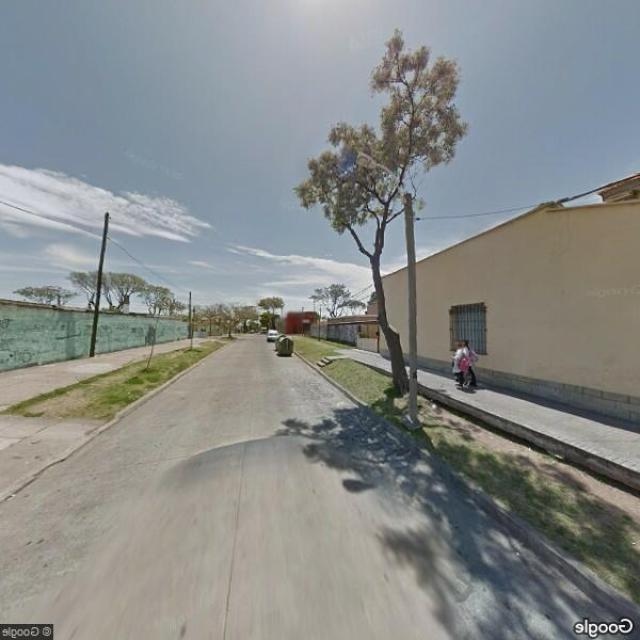garbage container: (269, 331, 301, 362)
